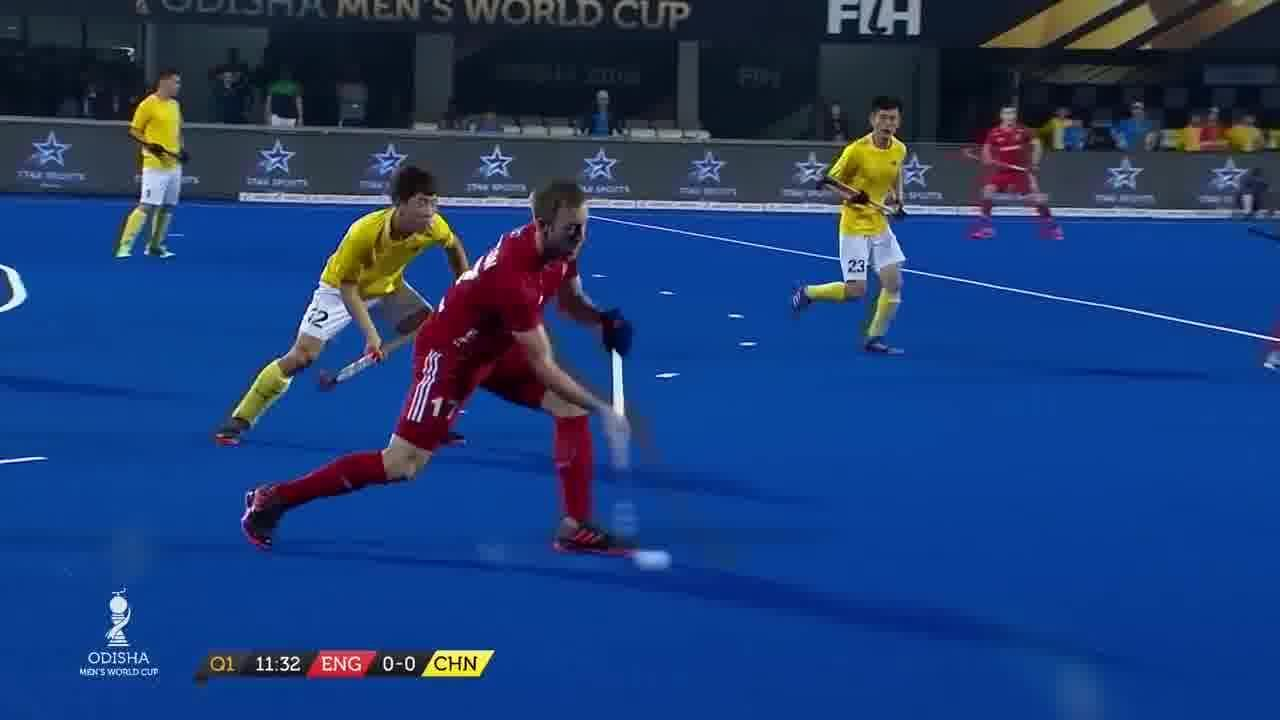ball: (626, 538, 682, 586)
